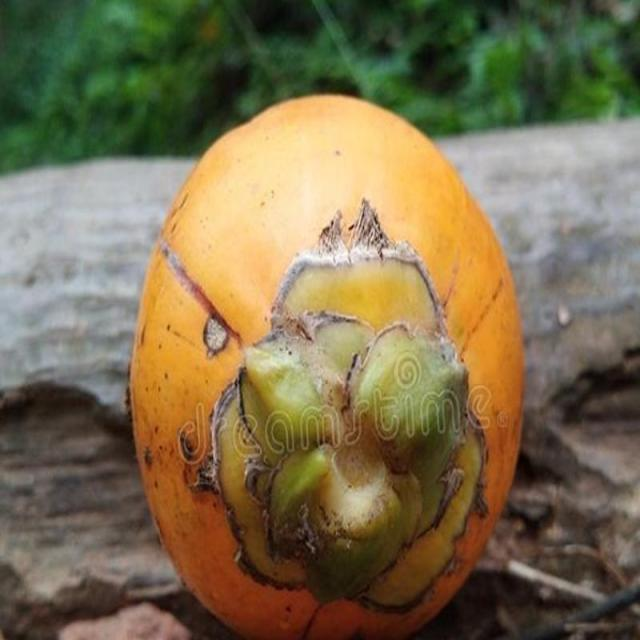good: (128, 96, 525, 639)
